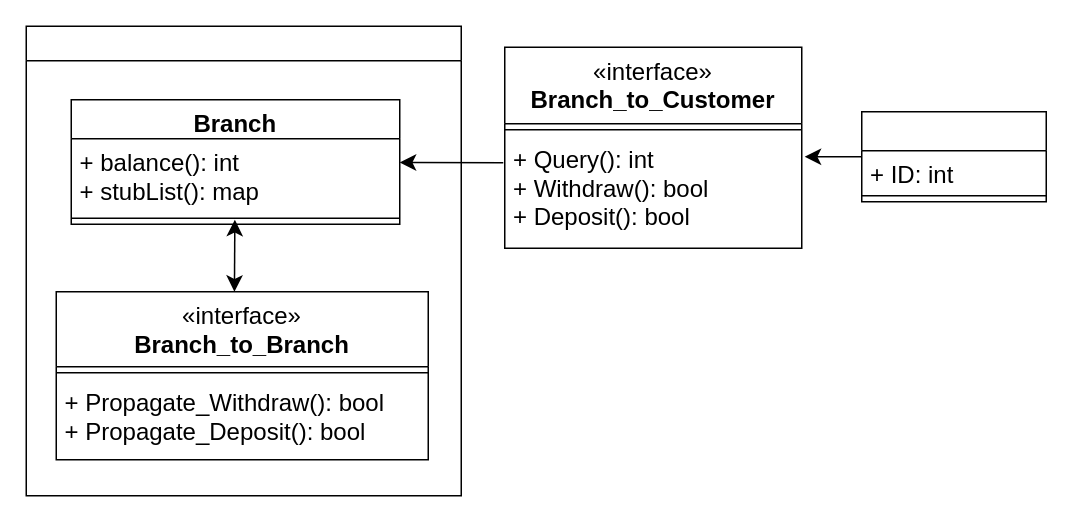
Some shapes in this 1073 by 522 pixel diagram are drawn without their labels. Each missing label, with the box of its shape:
Customer: (860, 110, 1046, 202)
Distributed Bank System: (25, 25, 461, 496)
